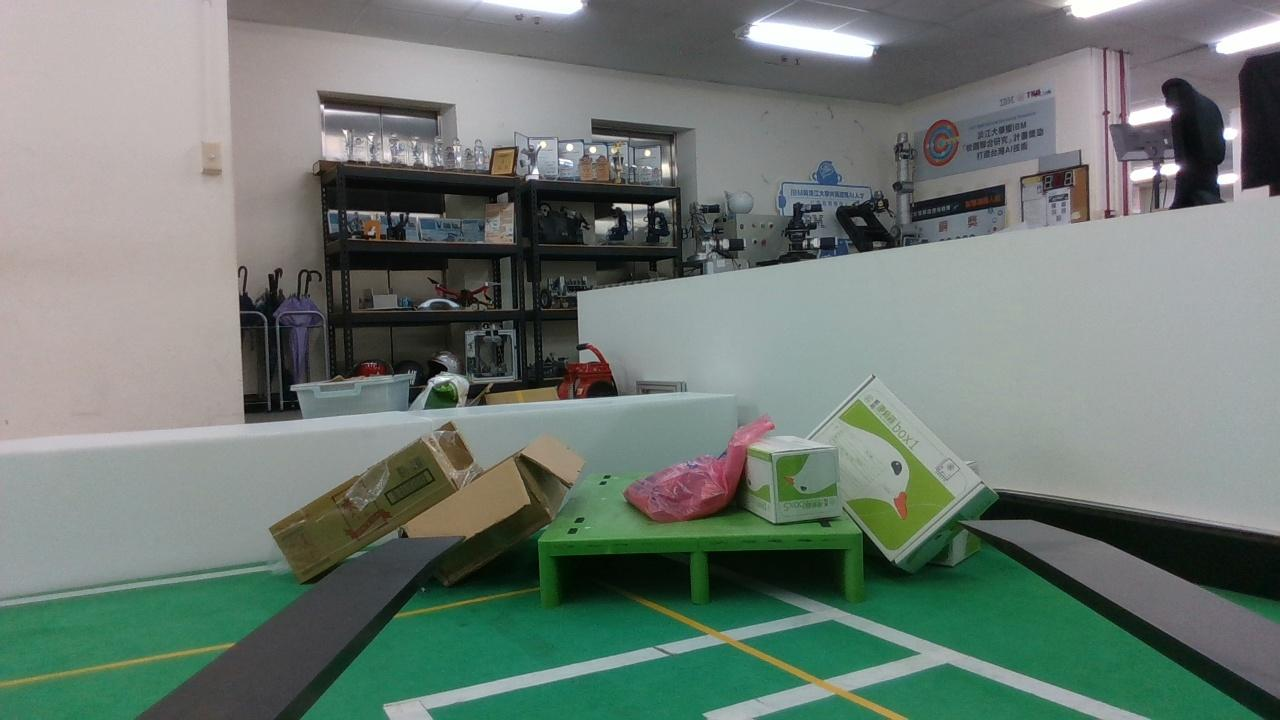Pallet: (539, 533, 867, 604)
